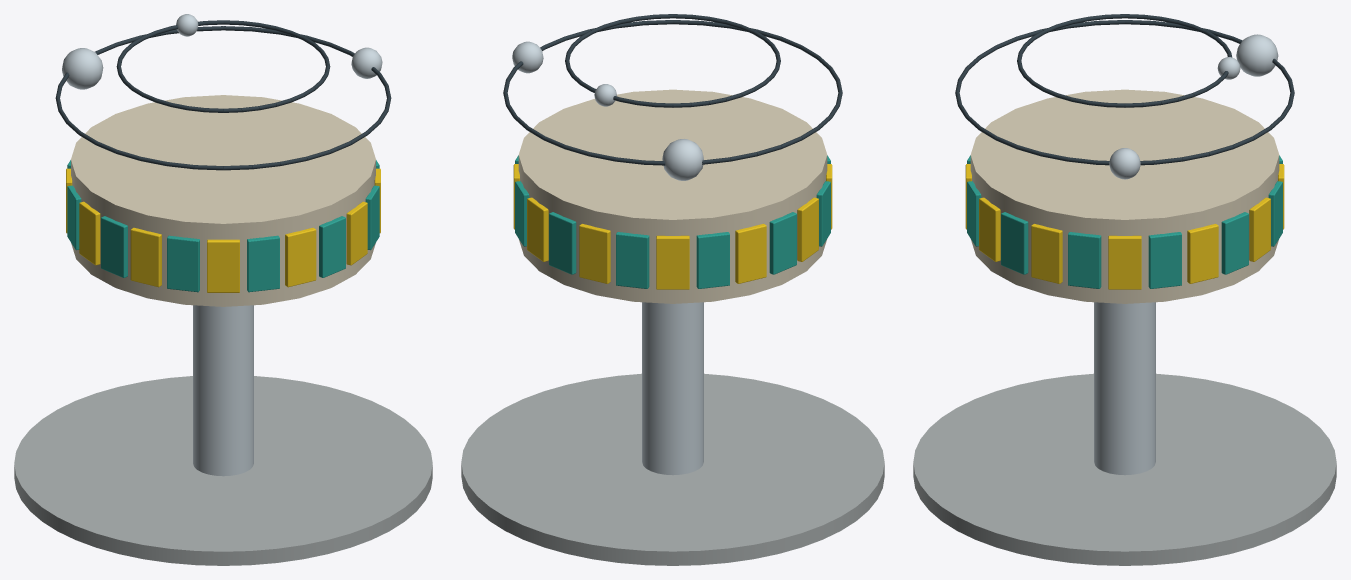
The model's file is world-clock.glb.
The picture shows the model from 3 angles, left to right: view 1: azimuth 30°, elevation 25°; view 2: azimuth 150°, elevation 25°; view 3: azimuth 270°, elevation 25°; orthographic projection.
Parts seen in each view (by area): view 1: DC_Mesh_DC_Concrete, DC_Mesh_DC_Ivory, DC_Mesh_DC_Silver, DC_Mesh_DC_Teal, DC_Mesh_DC_Yellow, DC_Mesh_DC_Steel; view 2: DC_Mesh_DC_Concrete, DC_Mesh_DC_Ivory, DC_Mesh_DC_Silver, DC_Mesh_DC_Teal, DC_Mesh_DC_Yellow, DC_Mesh_DC_Steel; view 3: DC_Mesh_DC_Concrete, DC_Mesh_DC_Ivory, DC_Mesh_DC_Silver, DC_Mesh_DC_Teal, DC_Mesh_DC_Yellow, DC_Mesh_DC_Steel.
Boxes of the visible parts, x1=… form: DC_Mesh_DC_Concrete: x1=14, y1=376, x2=432, y2=565; DC_Mesh_DC_Ivory: x1=71, y1=95, x2=375, y2=306; DC_Mesh_DC_Silver: x1=62, y1=14, x2=382, y2=476; DC_Mesh_DC_Teal: x1=67, y1=160, x2=379, y2=292; DC_Mesh_DC_Yellow: x1=66, y1=168, x2=380, y2=292; DC_Mesh_DC_Steel: x1=55, y1=20, x2=391, y2=170; DC_Mesh_DC_Concrete: x1=461, y1=373, x2=884, y2=565; DC_Mesh_DC_Ivory: x1=518, y1=89, x2=827, y2=303; DC_Mesh_DC_Silver: x1=512, y1=41, x2=703, y2=475; DC_Mesh_DC_Teal: x1=515, y1=155, x2=830, y2=288; DC_Mesh_DC_Yellow: x1=513, y1=164, x2=832, y2=289; DC_Mesh_DC_Steel: x1=503, y1=14, x2=842, y2=165; DC_Mesh_DC_Concrete: x1=913, y1=373, x2=1336, y2=565; DC_Mesh_DC_Ivory: x1=970, y1=89, x2=1279, y2=303; DC_Mesh_DC_Silver: x1=1094, y1=34, x2=1278, y2=475; DC_Mesh_DC_Teal: x1=967, y1=155, x2=1282, y2=288; DC_Mesh_DC_Yellow: x1=965, y1=164, x2=1284, y2=289; DC_Mesh_DC_Steel: x1=955, y1=14, x2=1294, y2=165.
Bounding box in the file's own units: 4.8 × 5.33 × 4.8.
